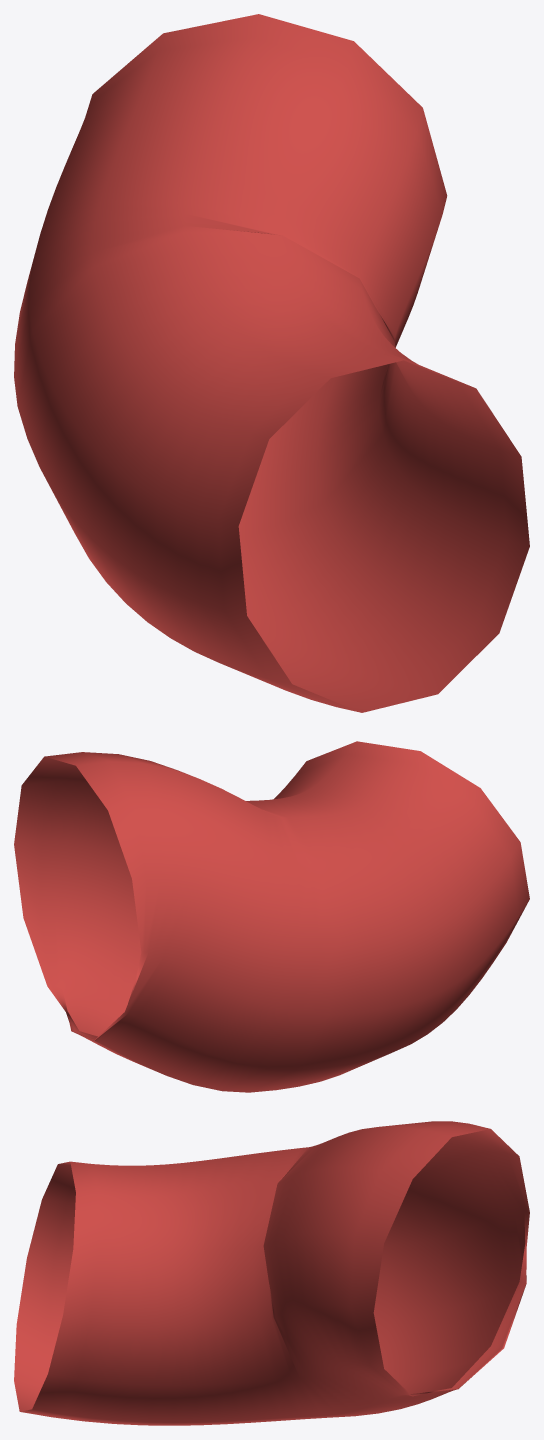
The picture shows the model from 3 angles, top to bottom: view 1: azimuth 30°, elevation 25°; view 2: azimuth 150°, elevation 25°; view 3: azimuth 270°, elevation 25°; orthographic projection. The views are drawn at different scales.
Parts seen in each view (by area): view 1: 升主动脉; view 2: 升主动脉; view 3: 升主动脉.
Part boxes in pixels (x1,y1,x2,y2): 升主动脉: (14,14,529,712); 升主动脉: (14,741,529,1092); 升主动脉: (14,1121,529,1425).
Size of the model in its own units: 0.0613 by 0.0588 by 0.0818.
